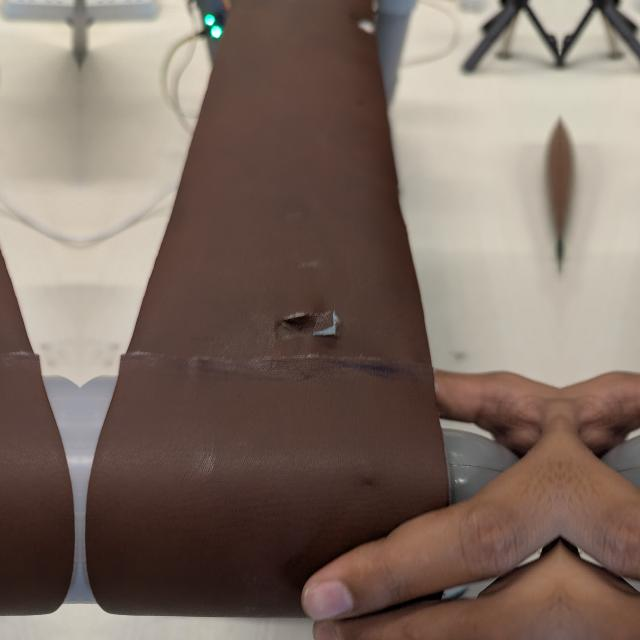joint_damage: (280, 278, 347, 353)
